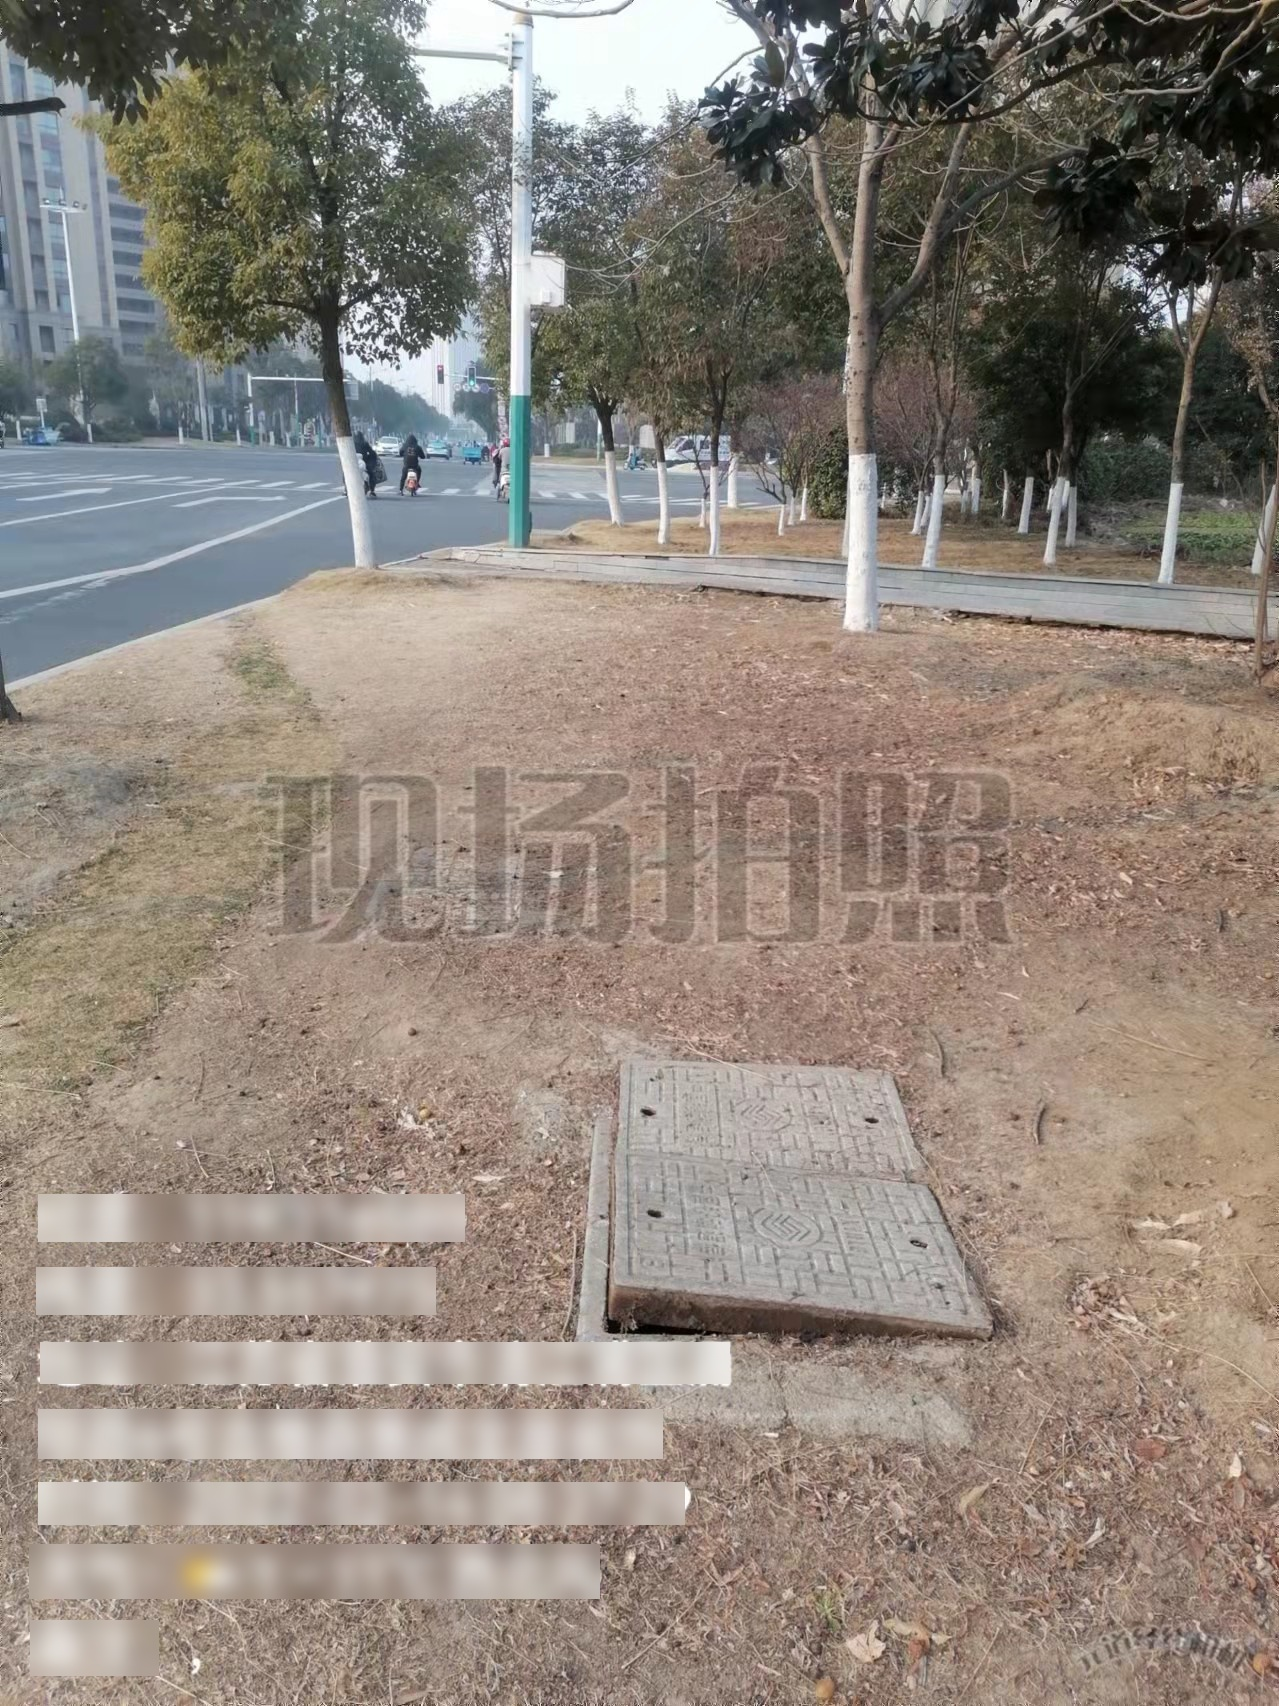uncovered: (588, 1046, 991, 1372)
